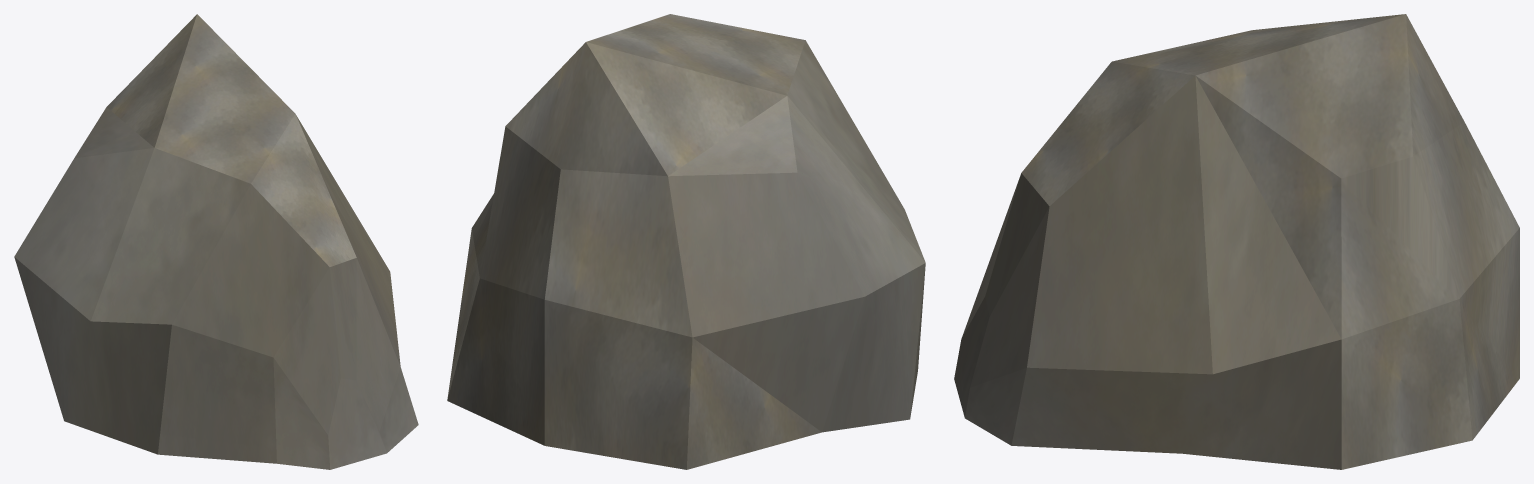
The model's file is RockHome.fbx.
3 views of the same model, side by side, from view 1: azimuth 30°, elevation 25°; view 2: azimuth 150°, elevation 25°; view 3: azimuth 270°, elevation 25° (orthographic). The views are drawn at different scales.
Visible parts, largest first — view 1: Rock, RockHome; view 2: RockHome, Rock; view 3: RockHome, Rock.
Part boxes in pixels (box(x1,y1,x2,y2)): Rock: box(14, 107, 418, 469); RockHome: box(107, 14, 356, 266); RockHome: box(447, 14, 821, 469); Rock: box(668, 40, 925, 432); RockHome: box(1021, 14, 1519, 469); Rock: box(954, 75, 1341, 469).
Bounding box in the file's own units: 365 × 340 × 437.
